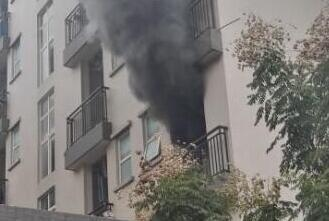smoke: (99, 5, 208, 148)
